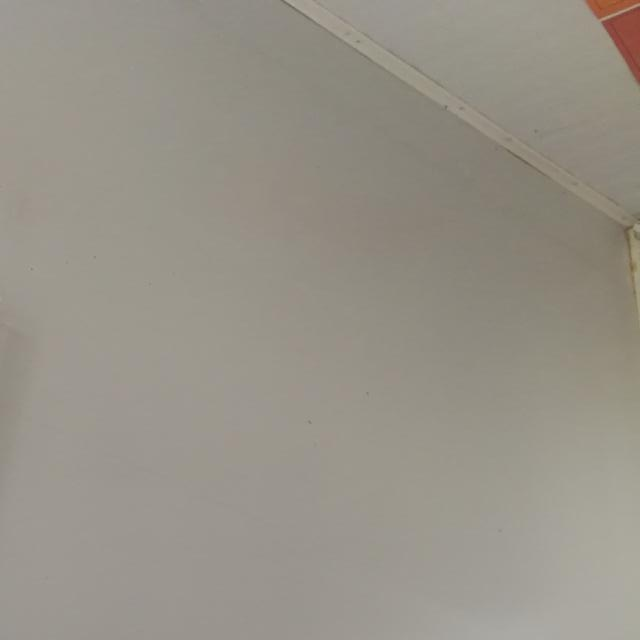fluorescent tube: (0, 257, 27, 640)
